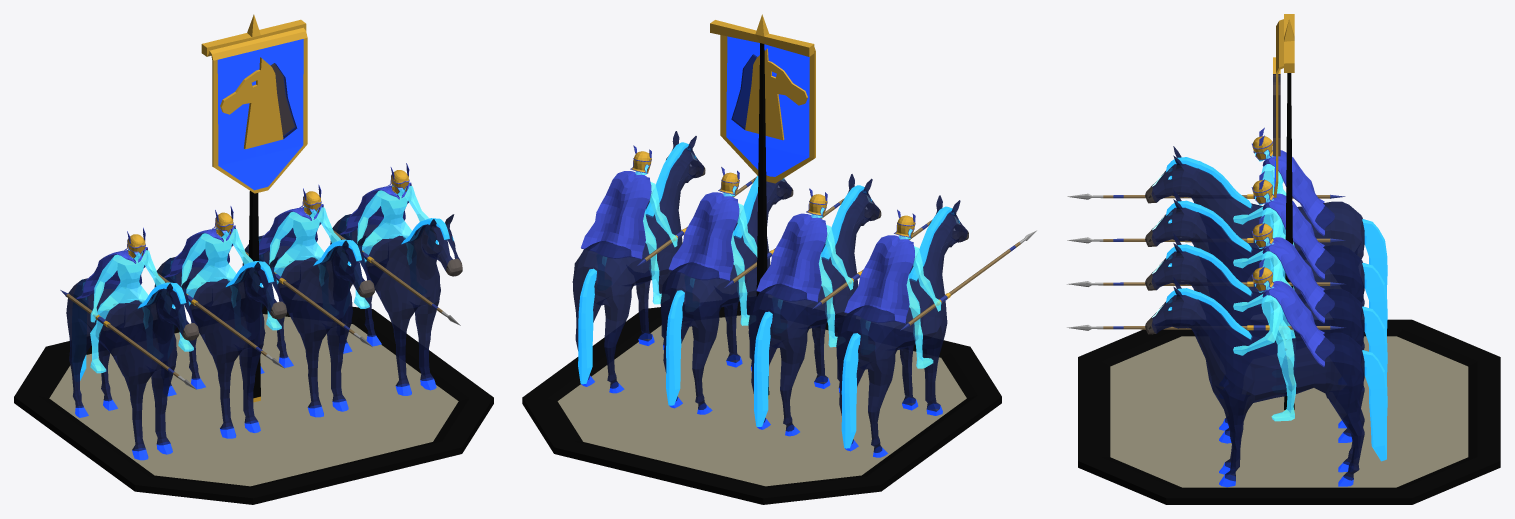
File: blue cavalry unit merged.fbx
The picture shows the model from 3 angles, left to right: view 1: azimuth 30°, elevation 25°; view 2: azimuth 150°, elevation 25°; view 3: azimuth 270°, elevation 25°; orthographic projection.
Parts seen in each view (by area): view 1: Cube; view 2: Cube; view 3: Cube.
Boxes of the visible parts, bbox=[...] form: Cube: bbox=[14, 14, 493, 504]; Cube: bbox=[522, 14, 1036, 504]; Cube: bbox=[1067, 14, 1500, 504].
Bounding box in the file's own units: 500 × 520 × 514.
